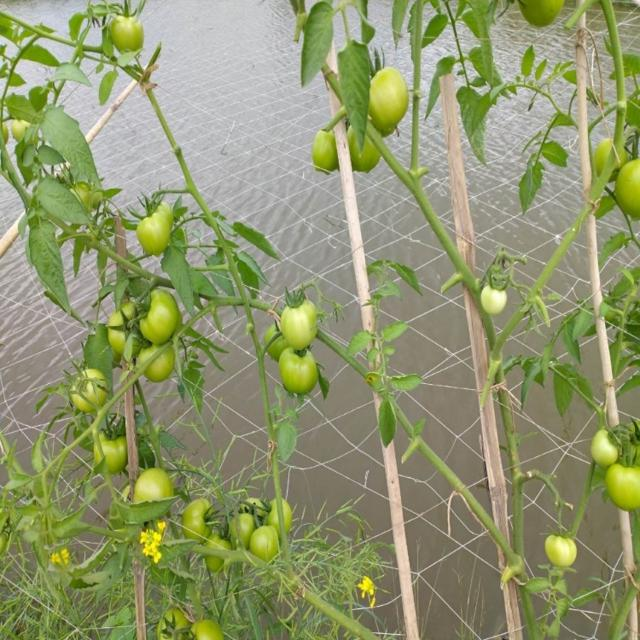tomato: (368, 60, 413, 134), (132, 195, 182, 260), (278, 293, 327, 354), (539, 529, 593, 577), (138, 288, 183, 345), (98, 299, 150, 347), (99, 16, 158, 57), (88, 423, 134, 474), (588, 127, 632, 179), (64, 370, 117, 412), (132, 469, 175, 518), (278, 346, 318, 396), (310, 125, 347, 179), (183, 498, 218, 552), (138, 344, 181, 387), (607, 457, 640, 513), (347, 129, 386, 176), (611, 159, 640, 217), (65, 178, 105, 219), (252, 524, 286, 568), (518, 1, 569, 29), (152, 604, 191, 640), (10, 110, 44, 151), (587, 427, 623, 465), (261, 494, 297, 532), (229, 507, 257, 548), (207, 531, 230, 578), (183, 614, 224, 640), (262, 322, 286, 361), (485, 284, 511, 318), (246, 491, 269, 522), (1, 117, 12, 153)
